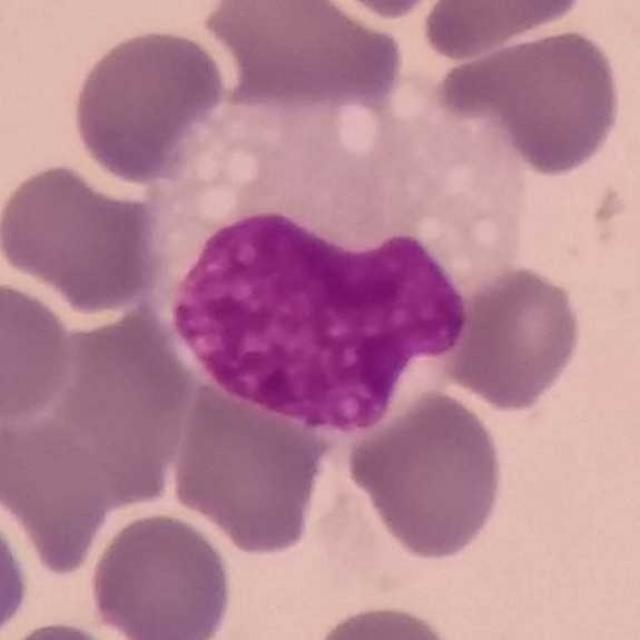Monocyte: (145, 82, 531, 441)
RBC: (166, 373, 334, 558), (345, 385, 509, 564), (437, 25, 628, 178), (56, 310, 197, 511), (67, 23, 230, 185), (0, 158, 166, 313), (197, 0, 406, 117), (434, 262, 588, 413), (84, 508, 237, 640), (0, 414, 111, 578), (0, 275, 77, 426), (416, 0, 594, 61), (303, 600, 467, 640), (0, 497, 33, 640), (0, 616, 136, 640), (298, 0, 458, 20)
